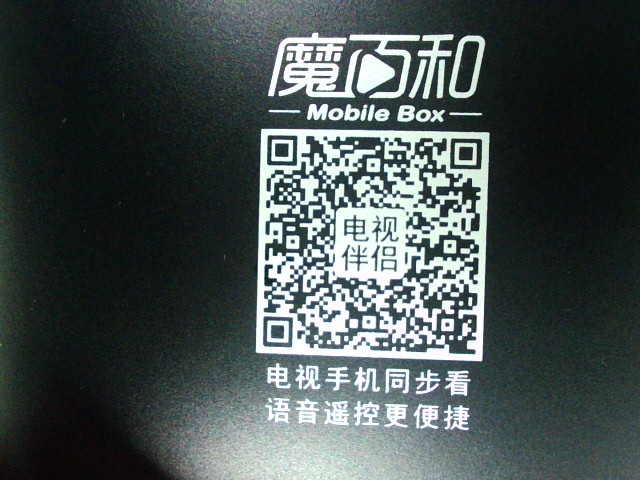AZ_MobileBox: (253, 31, 495, 431)
